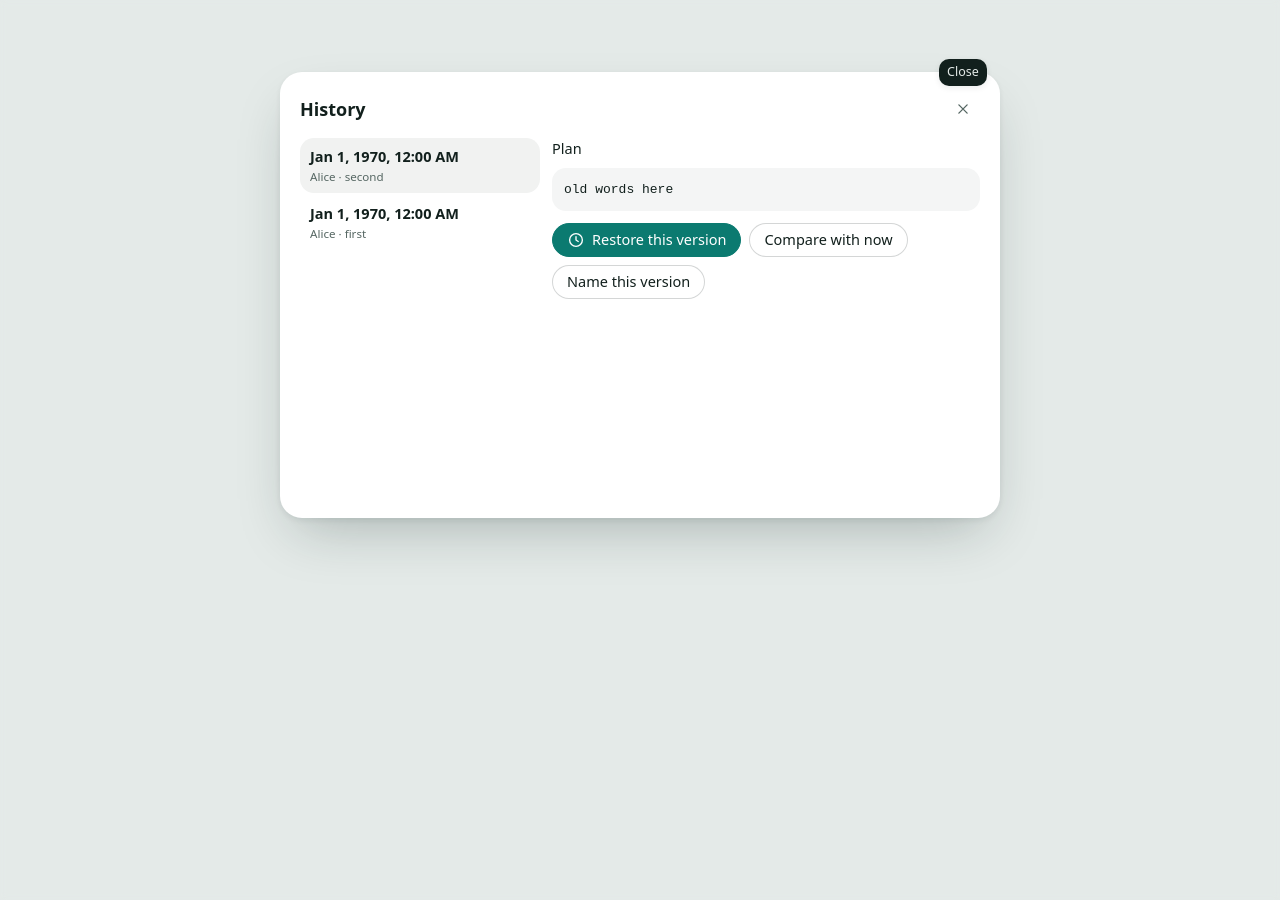
the page history window (ADR 0093) › names a version and shows its name in the list
Click the button "Name this version". click: click(629, 282)
box: [552,265,705,299]
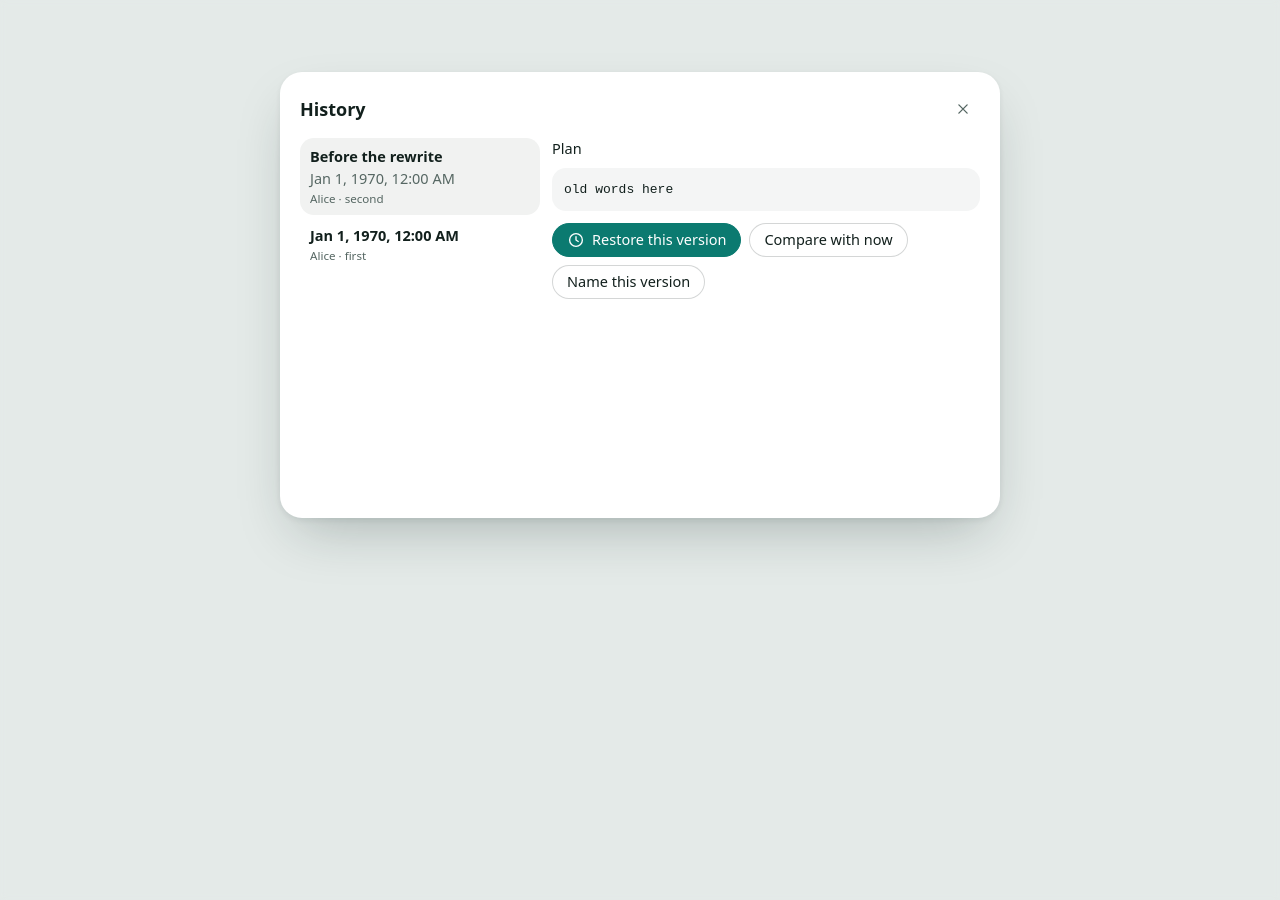
expect the text "Before the rewrite" is shown: met, box [310,146,442,166]
